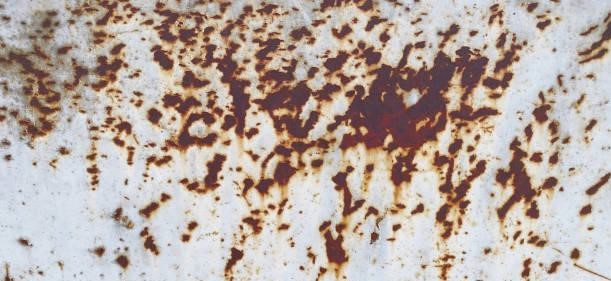Corrosion: (1, 1, 611, 281)
